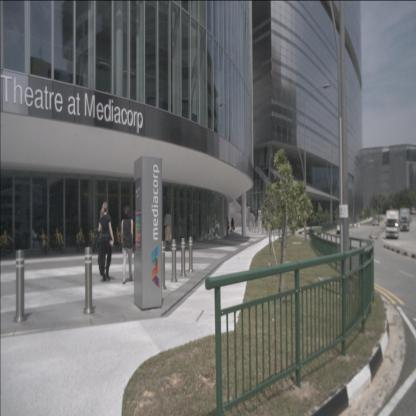human-pedestrian-adult: (97, 200, 114, 282), (121, 204, 133, 284), (162, 207, 172, 251), (230, 217, 235, 236), (226, 216, 230, 236)
vehicle-bicycle: (0, 222, 14, 257)
vehicle-car: (337, 219, 348, 234), (400, 221, 410, 232), (372, 219, 379, 226), (410, 207, 416, 214)
vehicle-truck: (386, 210, 400, 240), (399, 207, 410, 231)
